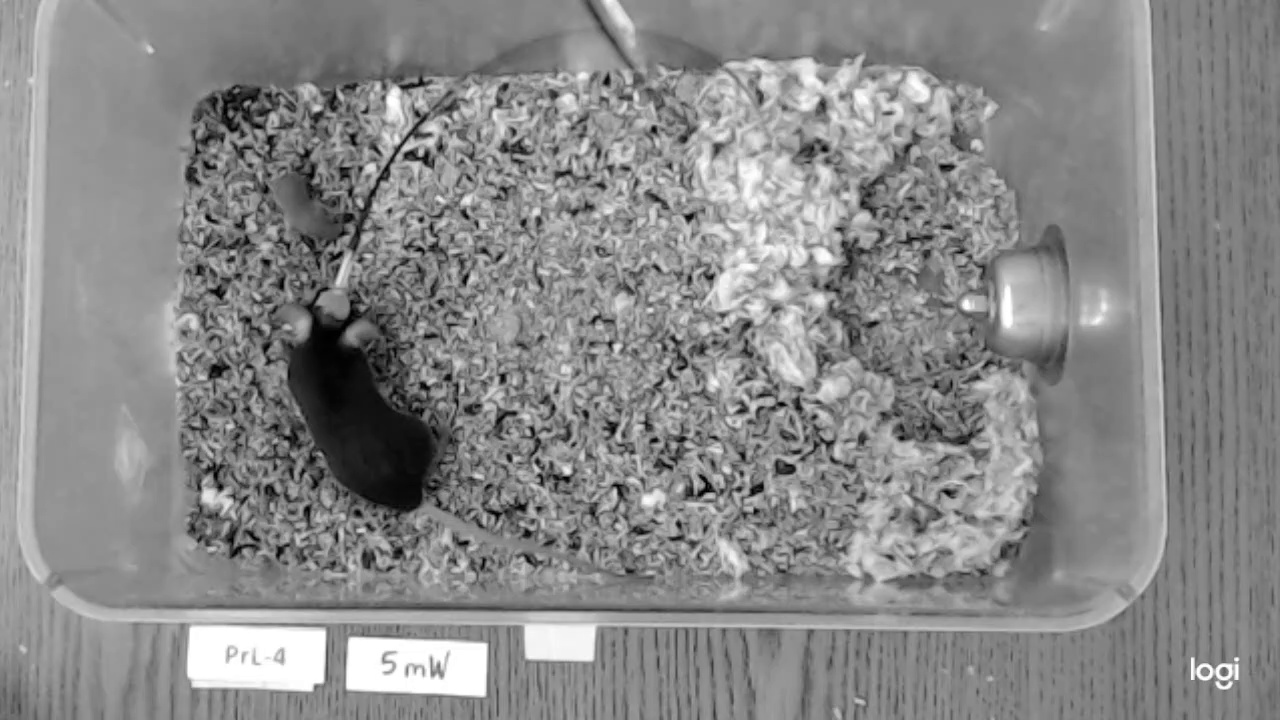child-mice: (265, 175, 344, 243)
